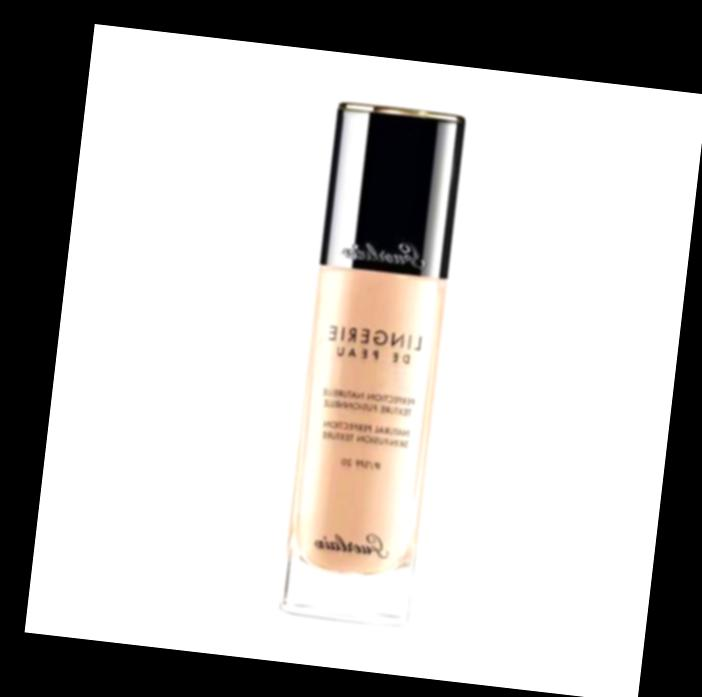cosmetic: (275, 98, 466, 625)
